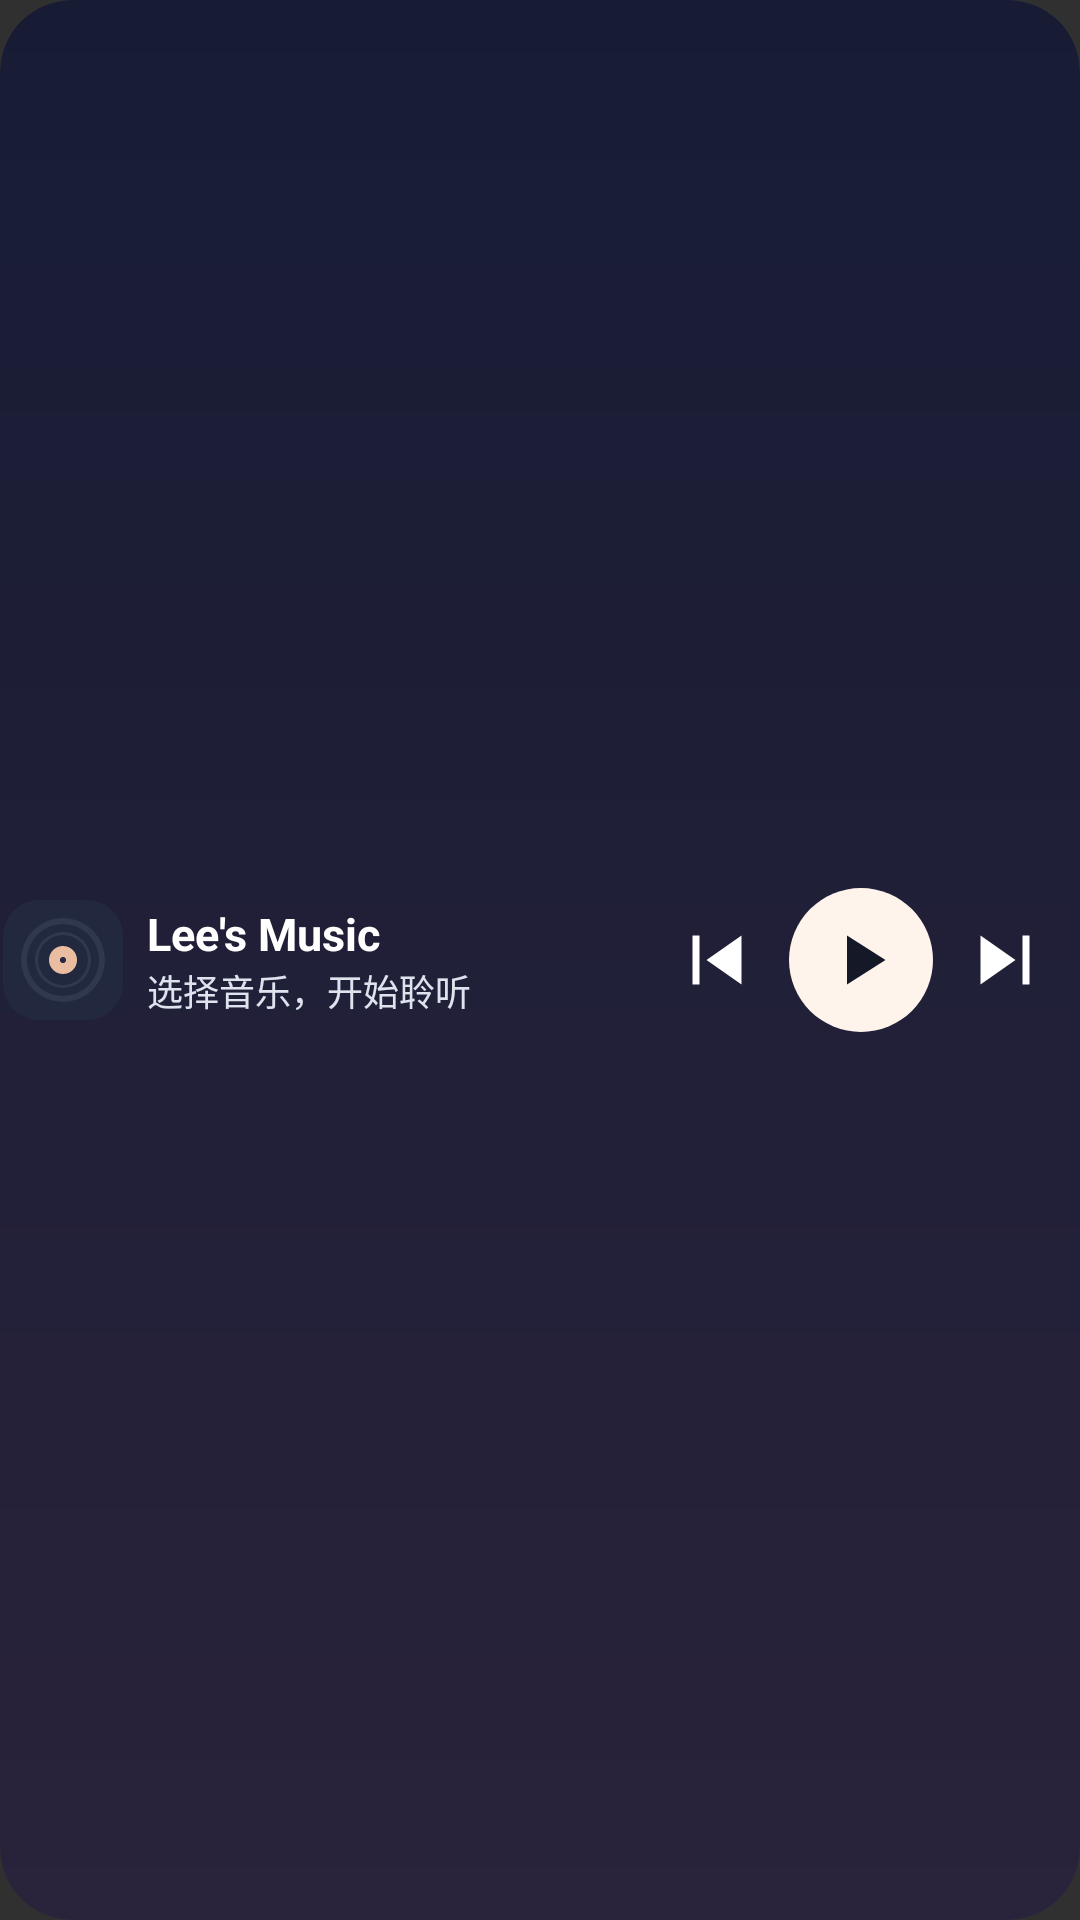

Where icons sit on this 1080 x 1920 app screen, as region(x1, y1, x2, y2):
上一首: region(692, 935, 742, 985)
下一首: region(980, 935, 1030, 985)
播放: region(789, 888, 933, 1032)
